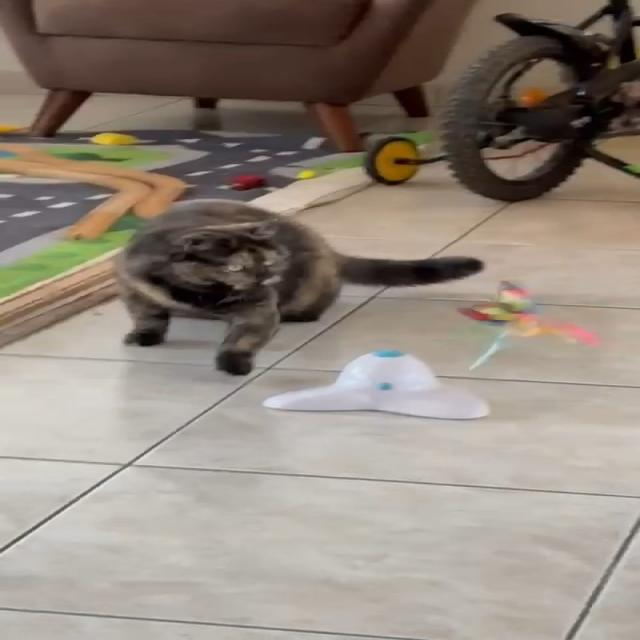authorized: (112, 197, 484, 376)
